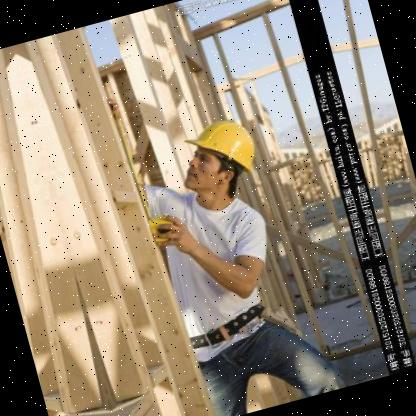capacete: (176, 112, 261, 192)
